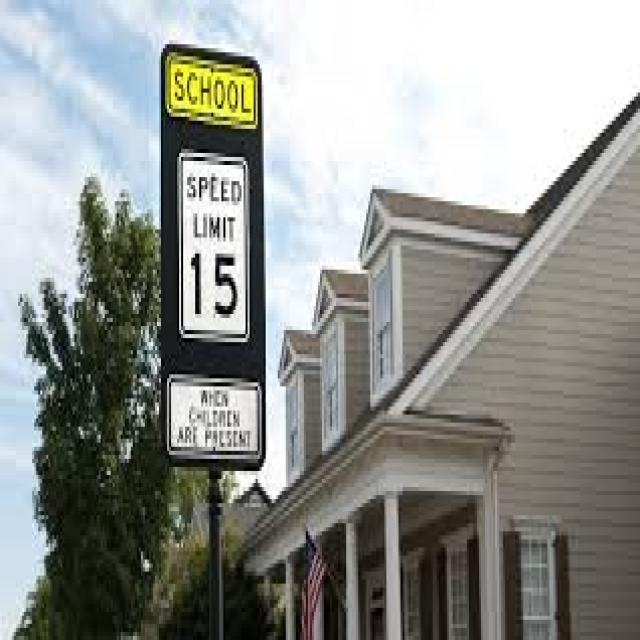speedLimit15: (178, 153, 249, 346)
